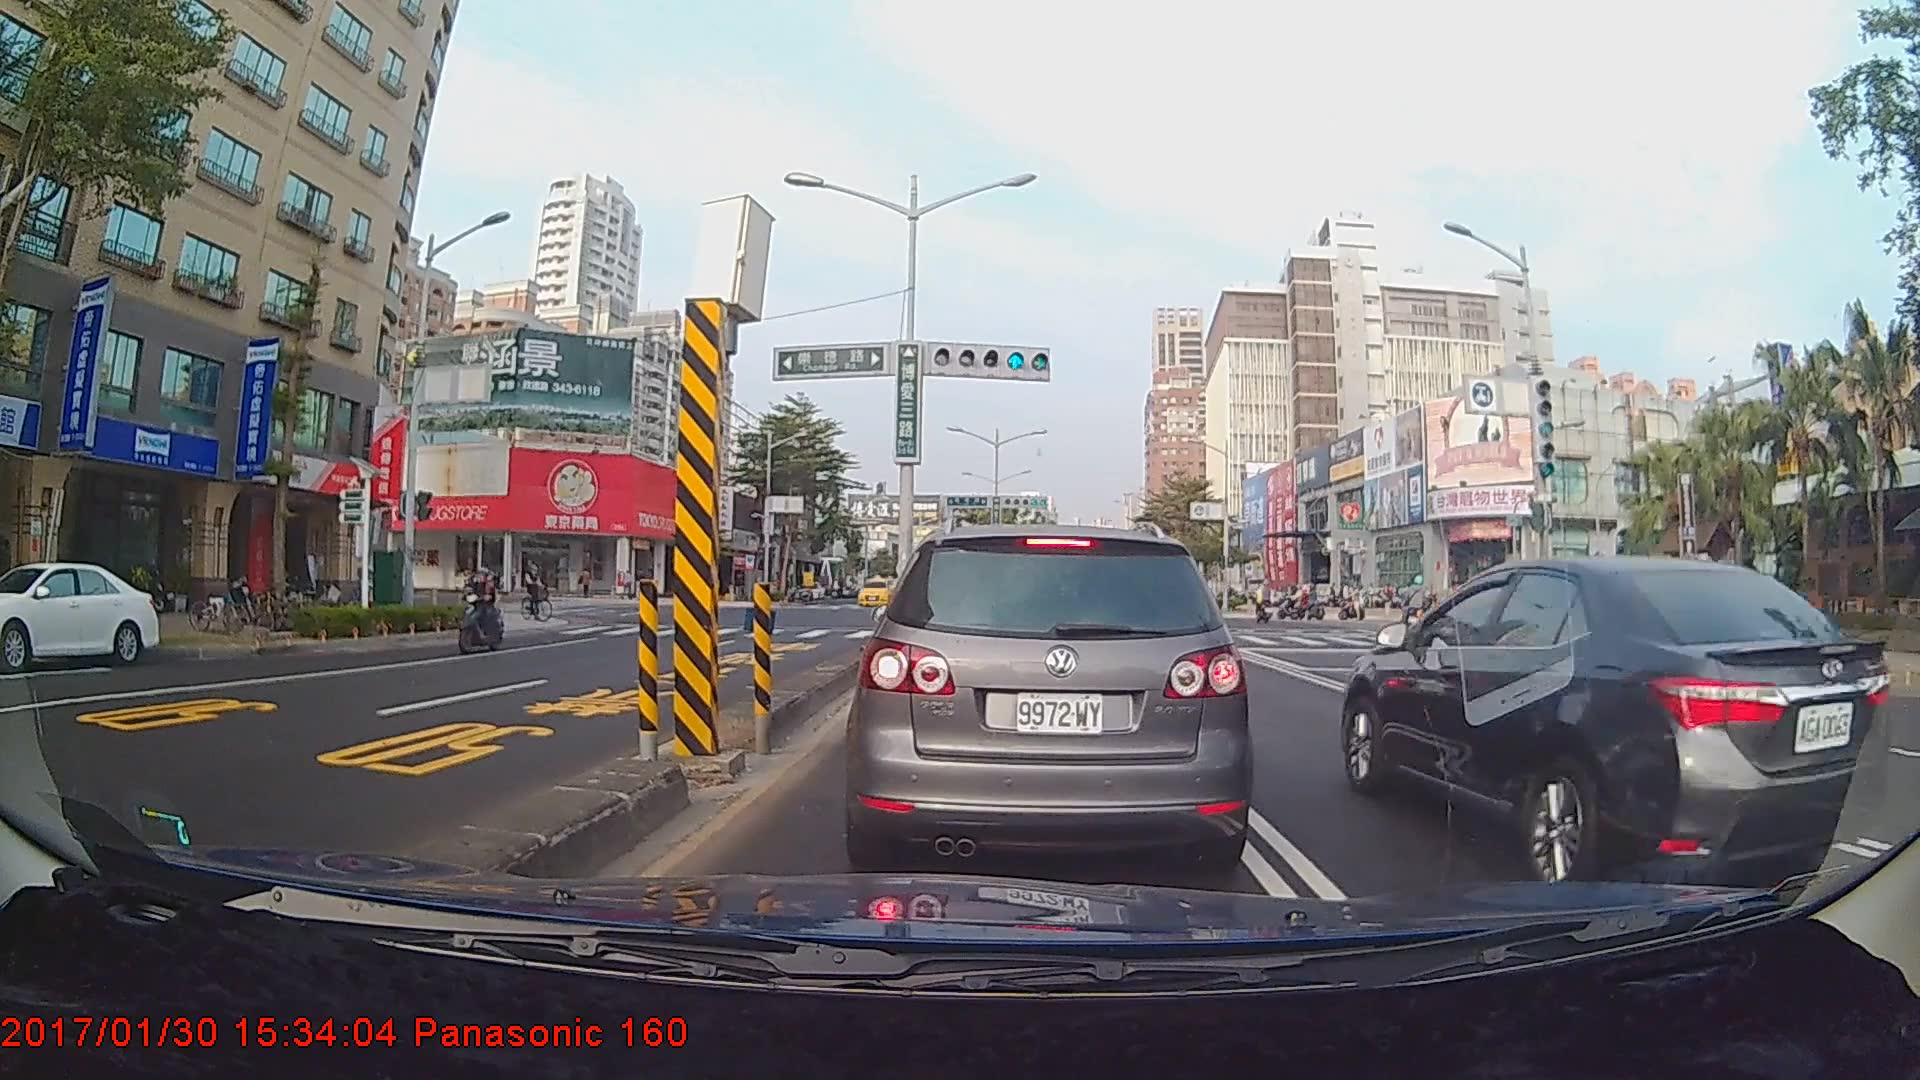rider: (451, 564, 510, 658), (1394, 574, 1434, 642), (518, 559, 561, 623), (1247, 574, 1275, 631)
vehicle: (1340, 547, 1882, 890), (856, 520, 1245, 874), (0, 561, 162, 671), (856, 577, 893, 606)
